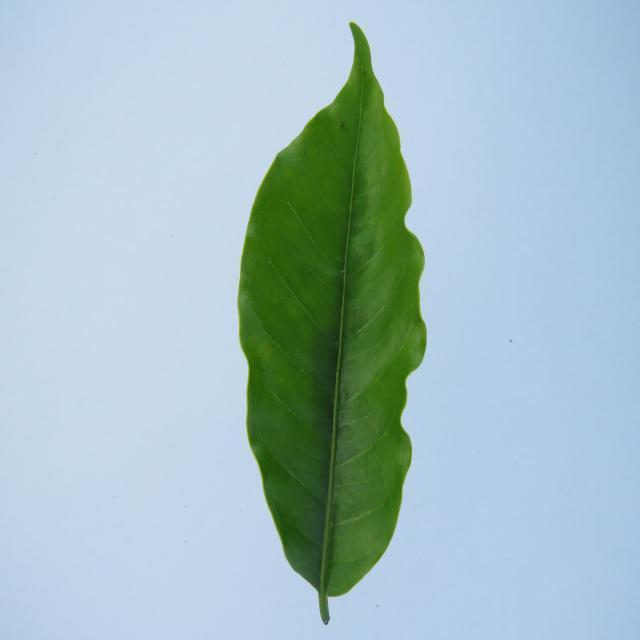DeficienciaNutricional-Calcio: (238, 23, 426, 623)
